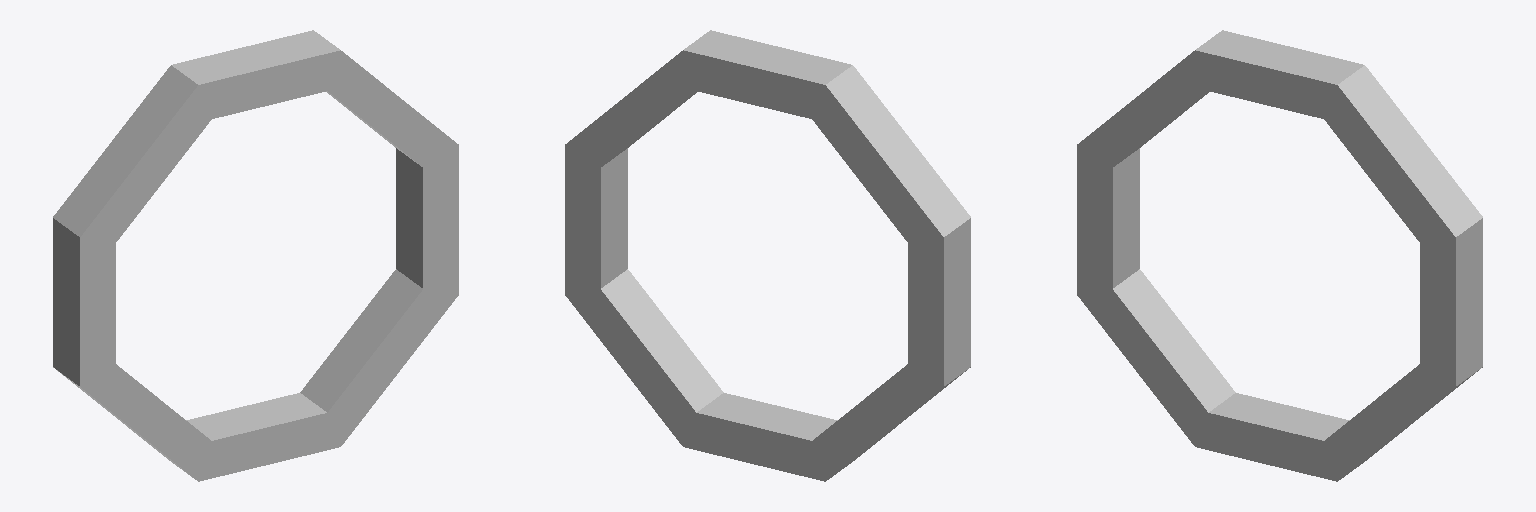
File: door_outer.obj
3 renders of one model, left to right at view 1: azimuth 30°, elevation 25°; view 2: azimuth 150°, elevation 25°; view 3: azimuth 330°, elevation 25°, orthographic.
Visible parts, largest first — view 1: Cube.001_Cube.002; view 2: Cube.001_Cube.002; view 3: Cube.001_Cube.002.
Boxes of the visible parts, x1=… form: Cube.001_Cube.002: x1=53, y1=30, x2=458, y2=481; Cube.001_Cube.002: x1=565, y1=30, x2=970, y2=481; Cube.001_Cube.002: x1=1077, y1=30, x2=1482, y2=481.
Size of the model in its own units: 9.87 by 9.87 by 1.24.